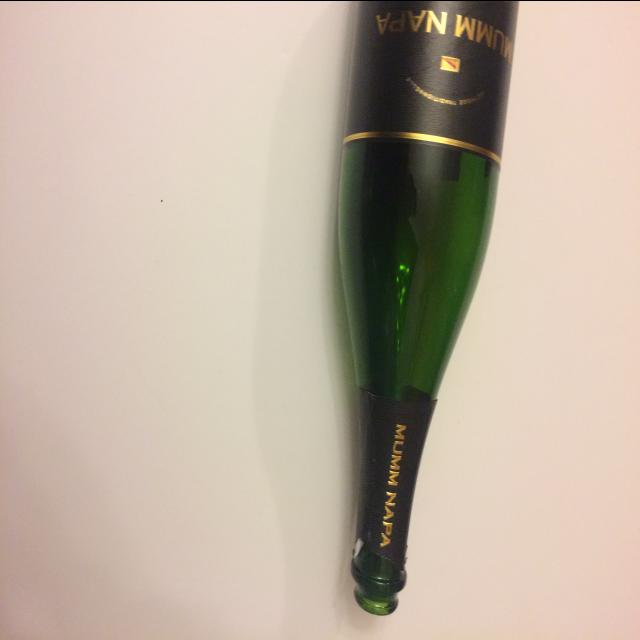glass: (340, 0, 524, 614)
